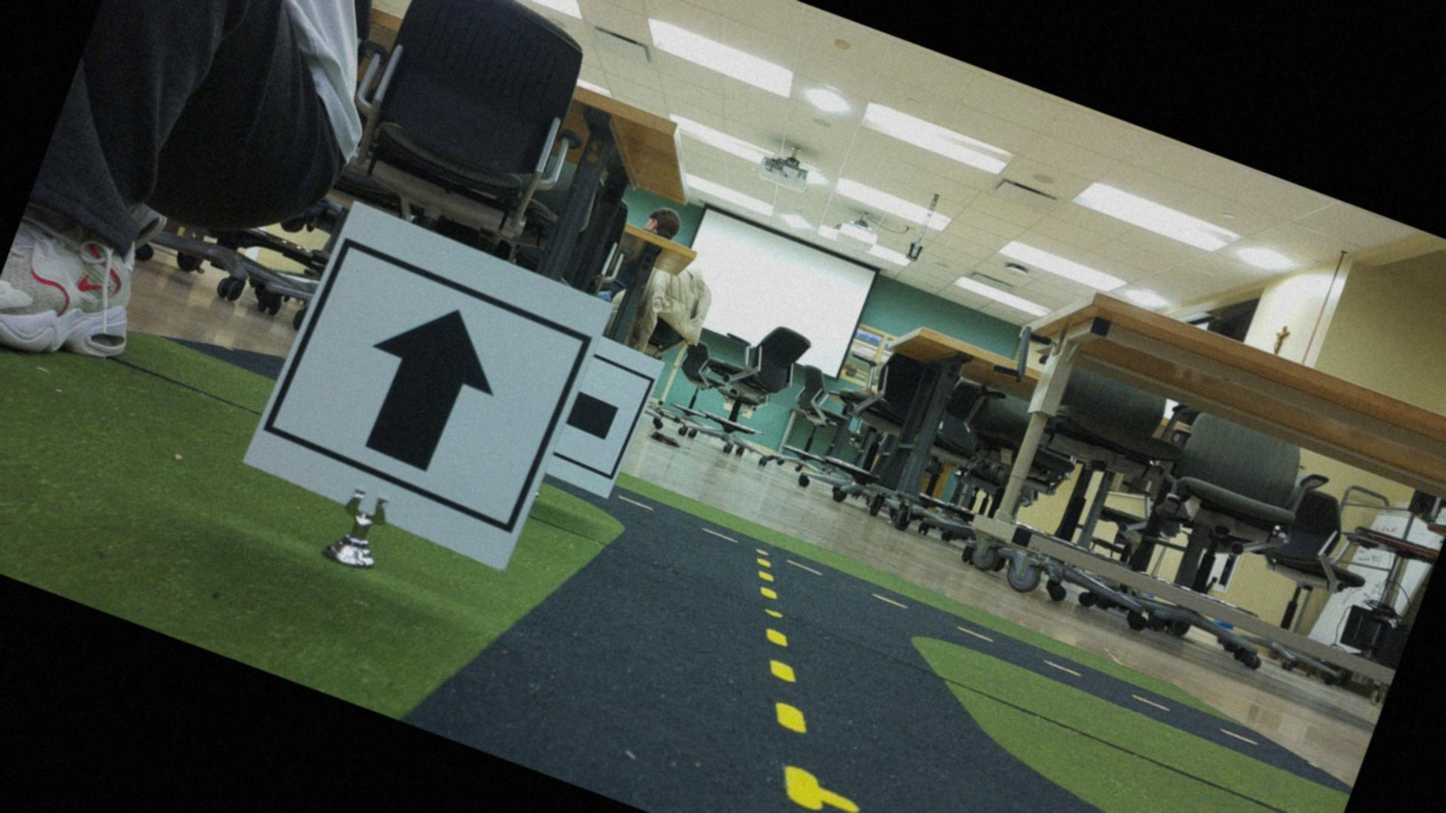gostraight: (255, 212, 597, 559)
yellowline: (678, 544, 899, 812)
